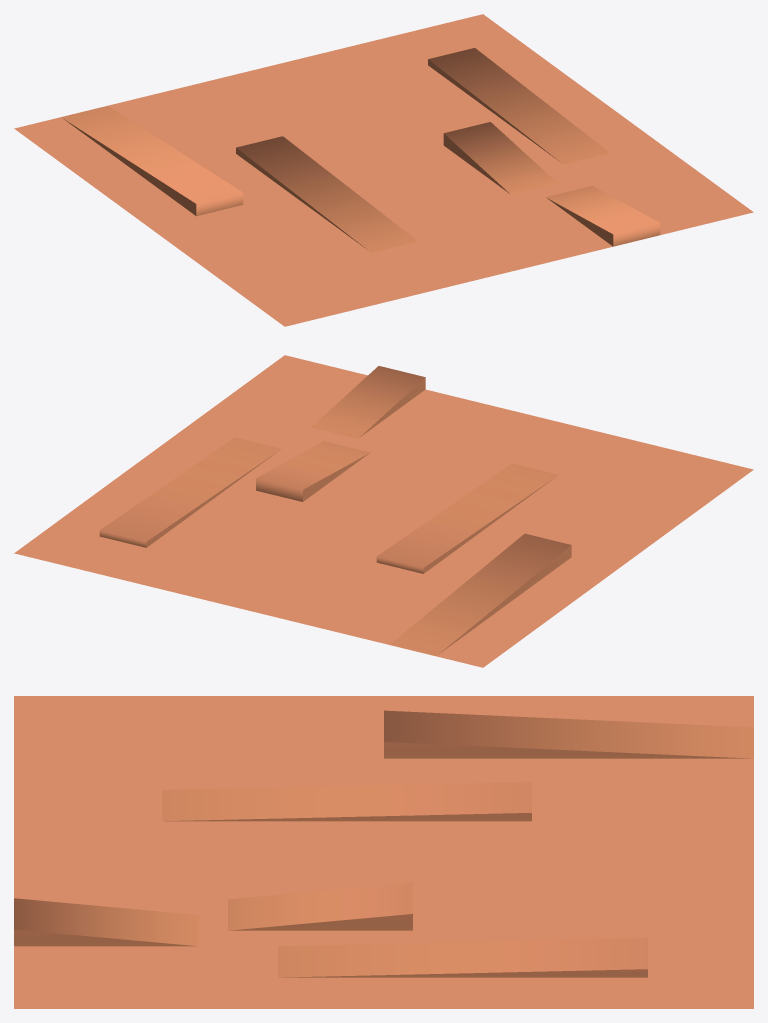
The model's file is kenney-mini-skate-floor-wood.glb.
3 renders of one model, top to bottom at view 1: azimuth 30°, elevation 25°; view 2: azimuth 150°, elevation 25°; view 3: azimuth 270°, elevation 25°, orthographic. The views are drawn at different scales.
Visible parts, largest first — view 1: floor-wood; view 2: floor-wood; view 3: floor-wood.
Part boxes in pixels (<box>): floor-wood: <box>14,14,753,326</box>; floor-wood: <box>14,355,753,667</box>; floor-wood: <box>14,696,753,1008</box>.
Bounding box in the file's own units: 1 × 0.025 × 1.
Materials: 1 (1 with a texture image).
